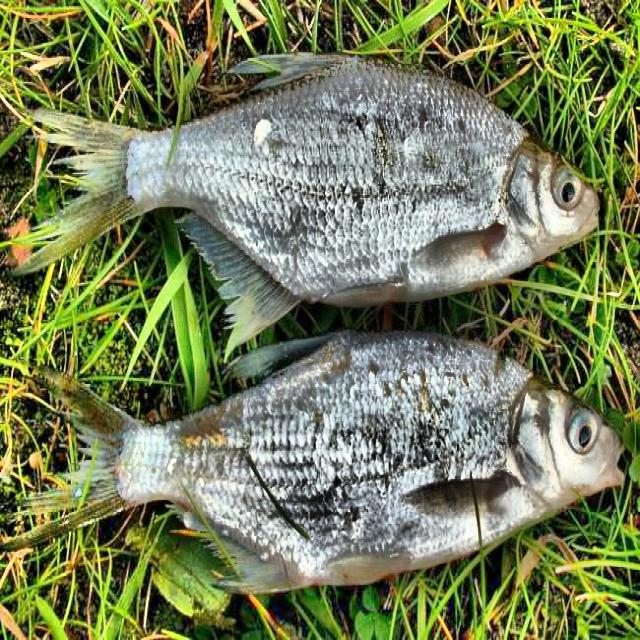fish: (13, 54, 598, 350), (8, 330, 622, 586)
